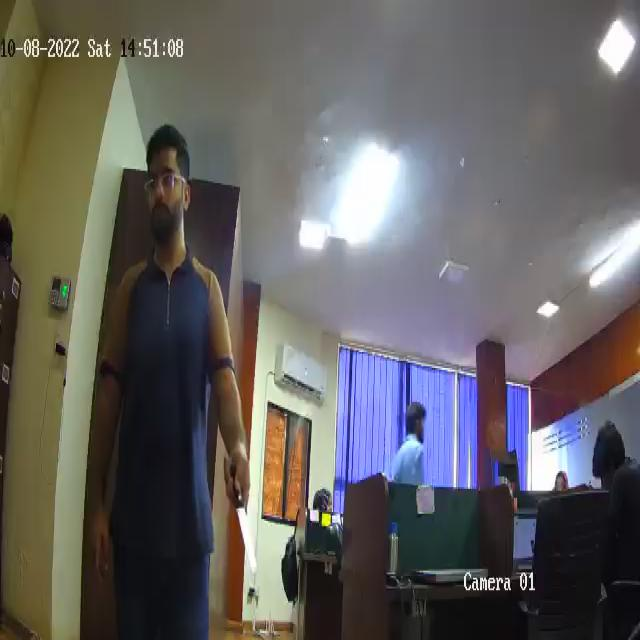Knife: (218, 455, 257, 569)
